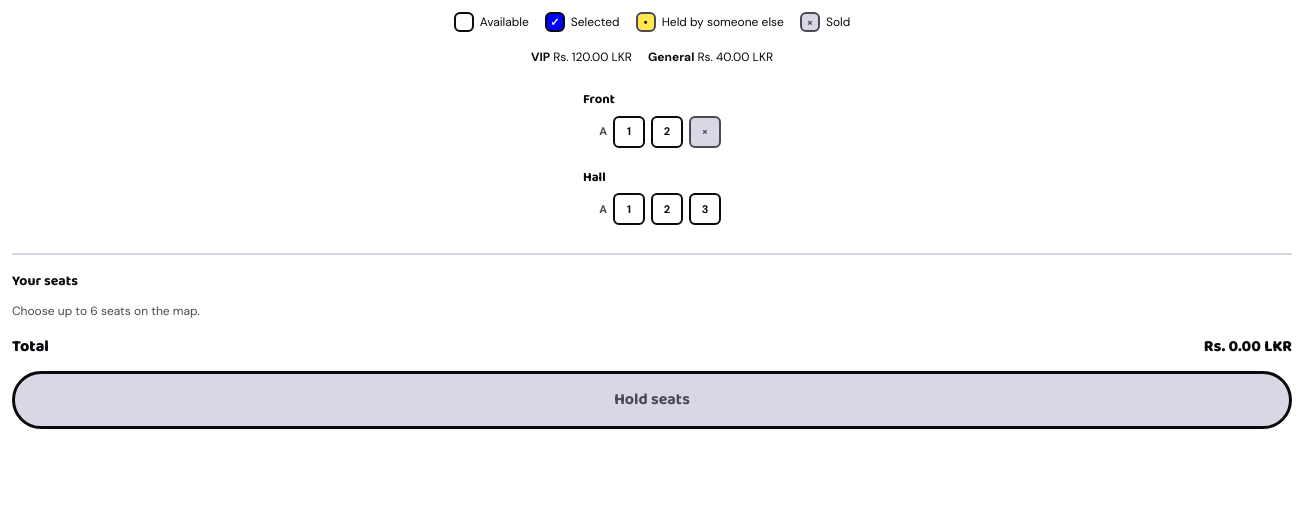
Test case: SeatSelection › removes a selected seat that someone else just took and tells the customer
Click the button named "Front row A seat 1". click: [629, 132]
box: top-left (613, 116), bottom-right (645, 148)
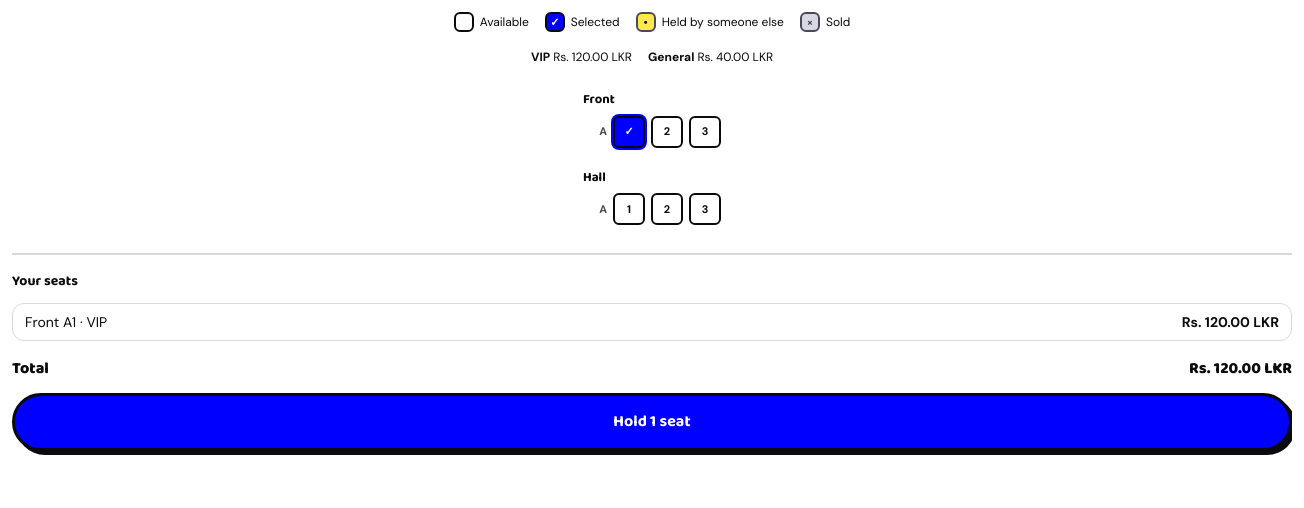
Click the button named "Front row A seat 2". click: [667, 132]
box: top-left (651, 116), bottom-right (683, 148)
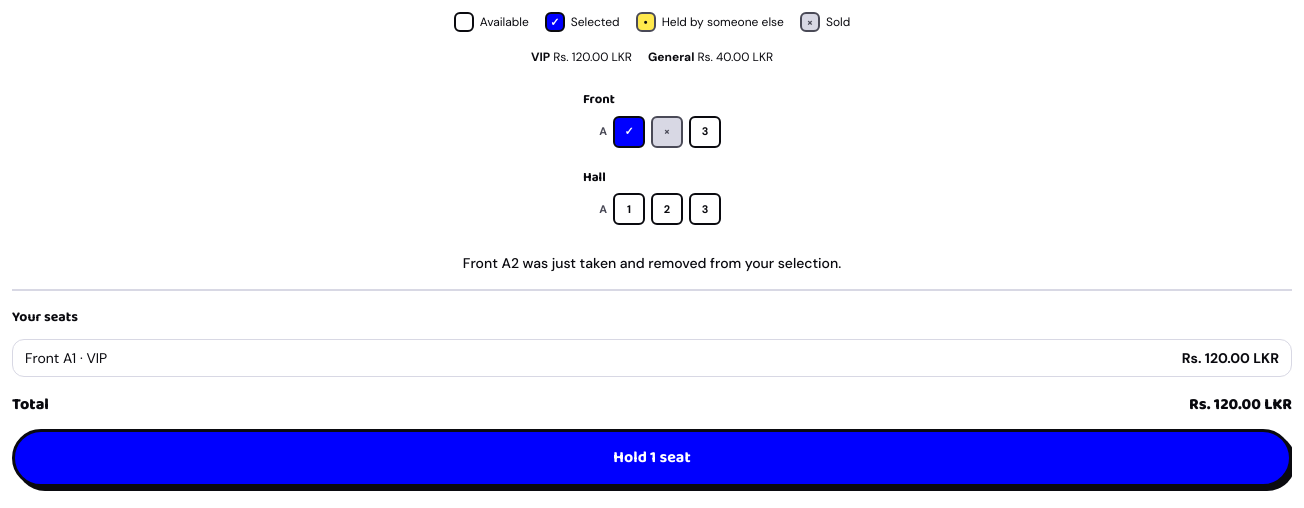
Check: the text "Front A2 was just taken and removed from your selection." is shown, box top-left (463, 254), bottom-right (841, 272)
